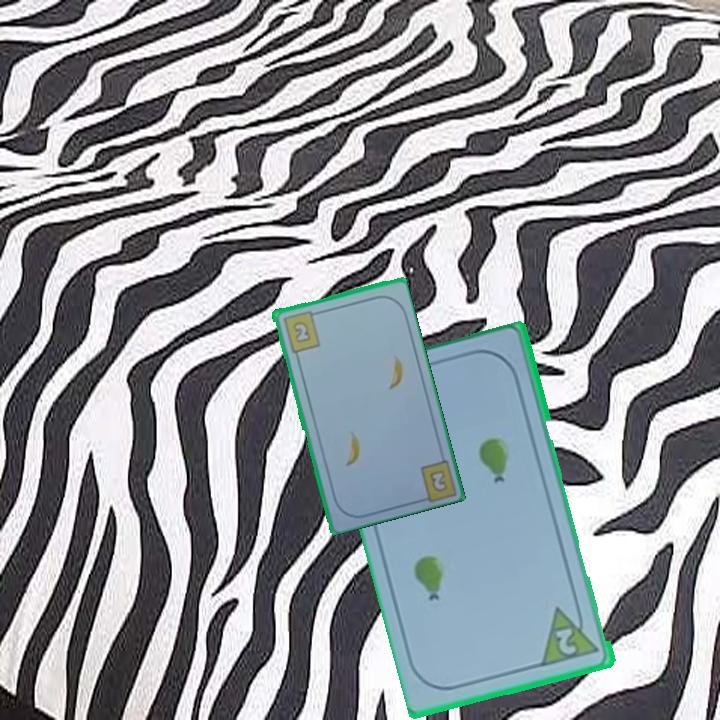2b: (279, 307, 323, 355), (426, 466, 450, 495)
2p: (552, 624, 580, 658)
